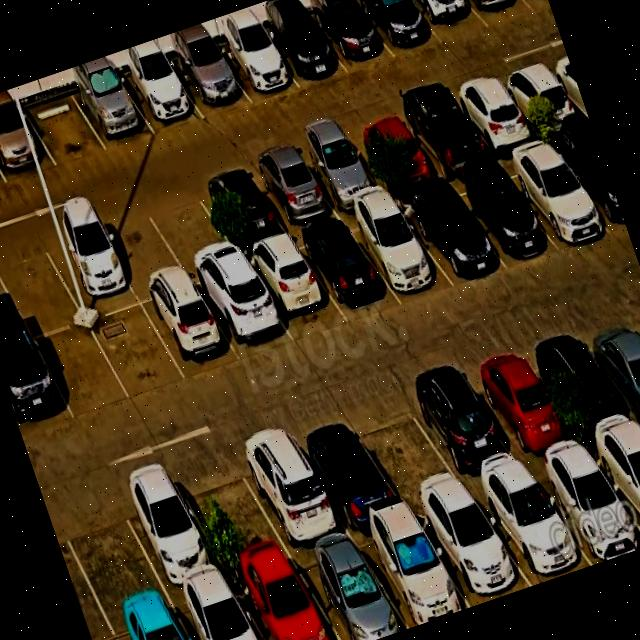empty: (169, 448, 290, 575), (51, 484, 166, 617), (343, 388, 467, 509), (142, 185, 244, 286), (94, 205, 192, 303), (89, 304, 187, 400), (35, 323, 130, 420), (0, 238, 84, 338), (23, 91, 107, 166)
occupied: (398, 365, 528, 492), (228, 422, 349, 553), (459, 345, 583, 470), (109, 465, 227, 594), (286, 408, 406, 532), (526, 324, 640, 447), (472, 473, 592, 585), (352, 514, 469, 628), (413, 496, 531, 607), (289, 536, 408, 640), (530, 453, 640, 564), (497, 145, 611, 247), (241, 238, 347, 344), (444, 168, 555, 267), (395, 187, 506, 286), (293, 220, 400, 322), (343, 204, 454, 301), (39, 220, 140, 321), (228, 556, 339, 640), (142, 287, 241, 381), (196, 270, 294, 361), (394, 96, 493, 180), (193, 167, 288, 253), (548, 130, 627, 232), (245, 150, 339, 232), (0, 336, 74, 439), (292, 134, 386, 213), (344, 115, 439, 193), (576, 309, 640, 420), (449, 78, 540, 155), (496, 61, 586, 137), (307, 0, 394, 73), (260, 14, 347, 87), (117, 63, 204, 134), (71, 77, 155, 150), (169, 577, 263, 640), (213, 33, 298, 102), (170, 49, 250, 117), (355, 0, 442, 57), (588, 430, 640, 525), (0, 107, 56, 182), (107, 596, 190, 640), (408, 0, 488, 45), (466, 0, 534, 26)
